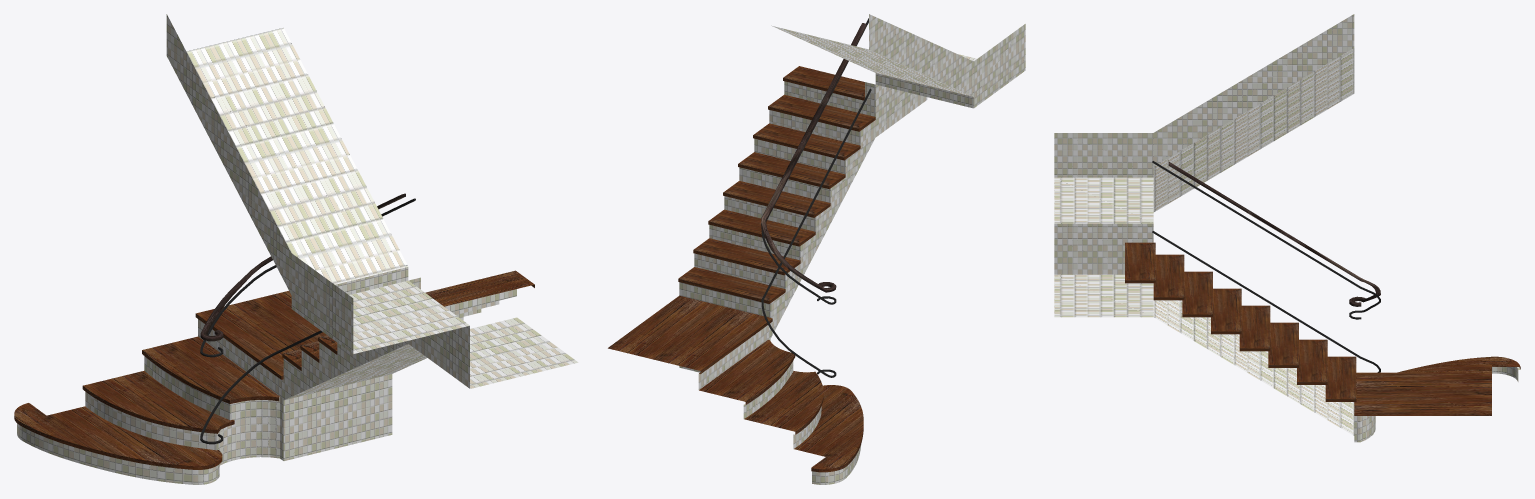
Rendered from Stair.FBX.
The picture shows the model from 3 angles, left to right: view 1: azimuth 30°, elevation 25°; view 2: azimuth 150°, elevation 25°; view 3: azimuth 270°, elevation 25°; orthographic projection. The views are drawn at different scales.
Visible parts, largest first — view 1: Stair; view 2: Stair; view 3: Stair.
Boxes of the visible parts, left/top/right/bottom form: Stair: left=14, top=14, right=578, bottom=484; Stair: left=608, top=14, right=1025, bottom=484; Stair: left=1054, top=14, right=1520, bottom=442.
Size of the model in its own units: 386 by 613 by 677.
